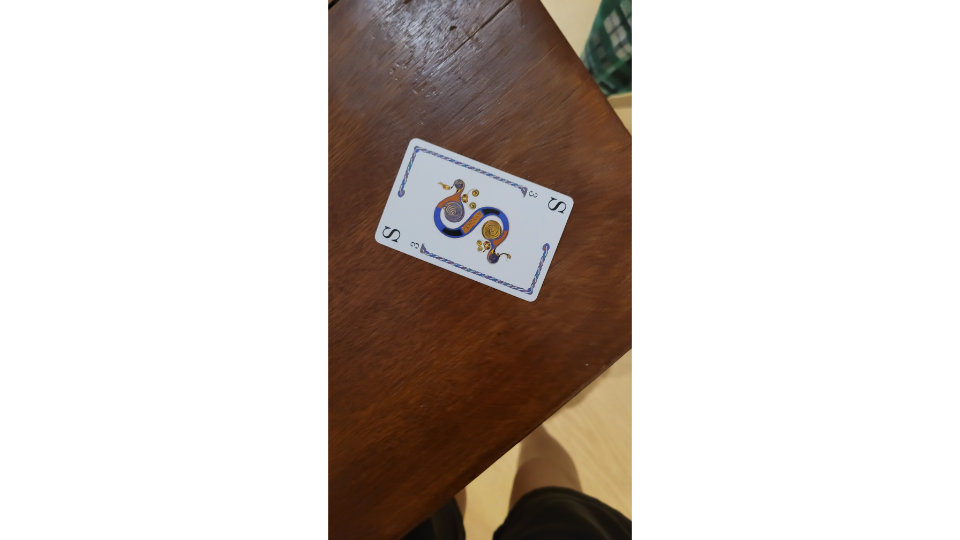S: (372, 137, 579, 304)
